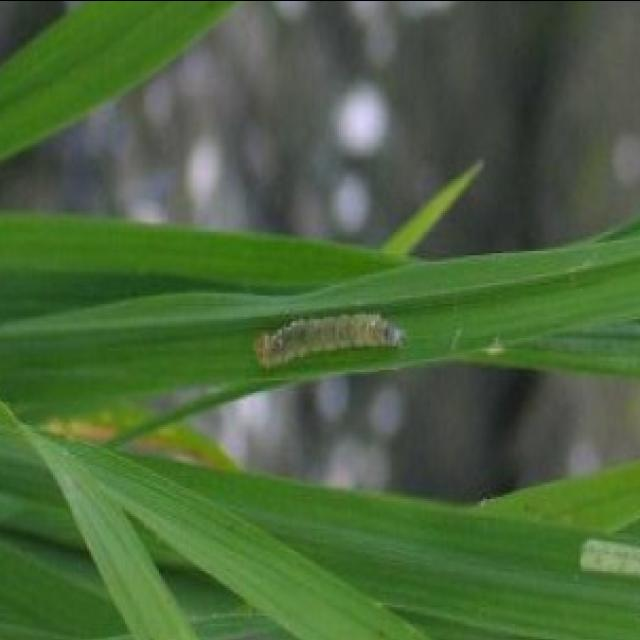rice leaf roller: (256, 312, 405, 365)
